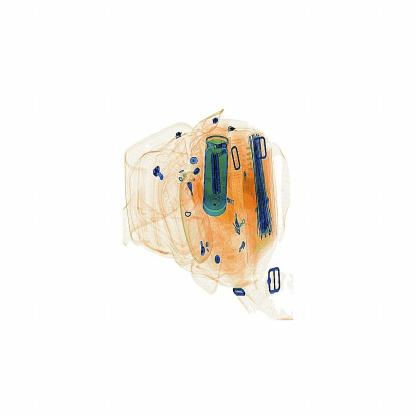scissors: (204, 136, 234, 204)
